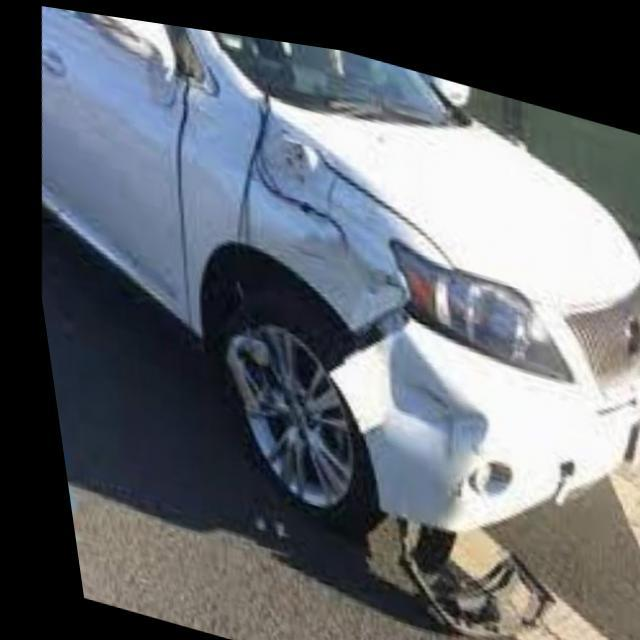dislocated part: (211, 82, 483, 531)
